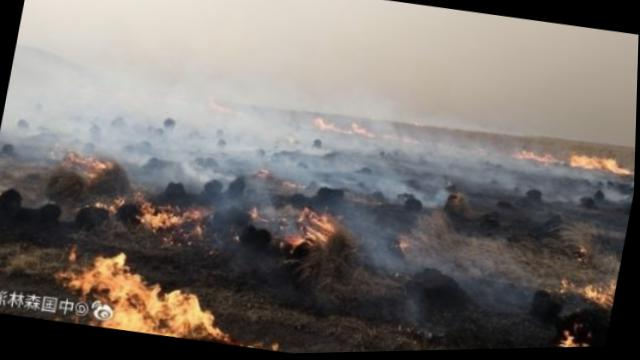fire: (61, 247, 243, 342), (108, 185, 213, 245), (257, 191, 355, 254), (515, 136, 635, 181), (309, 111, 395, 143), (59, 144, 121, 188), (557, 271, 619, 309), (560, 328, 598, 349)
